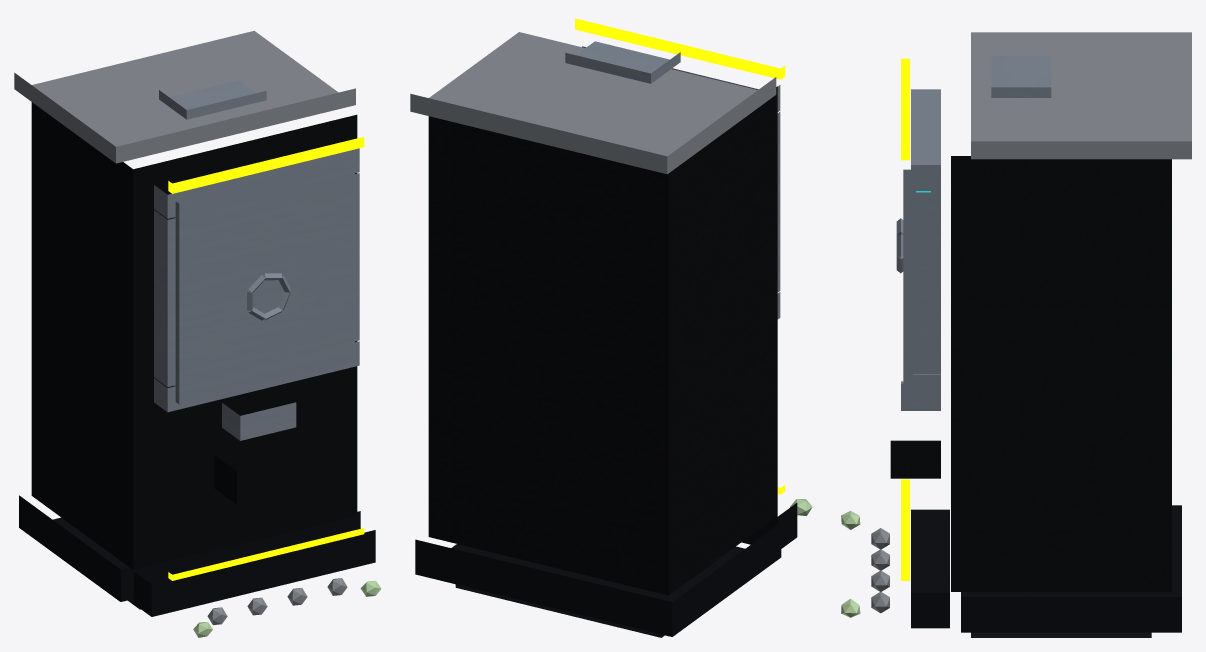
File: tt_foyer_kiosk.glb
3 renders of one model, left to right at view 1: azimuth 30°, elevation 25°; view 2: azimuth 150°, elevation 25°; view 3: azimuth 270°, elevation 25°, orthographic. The views are drawn at different scales.
Parts seen in each view (by area): view 1: Kiosk_Body, Kiosk_Bezel, Kiosk_Top, Kiosk_Slate_Base, River_LED, Ticket_Mouth, RFID_Pad, Card_Slot, Pebble_Plinth, Cable_Ring; view 2: Kiosk_Body, Kiosk_Top, Kiosk_Slate_Base, RFID_Pad, River_LED, Kiosk_Bezel, Kiosk_Plinth; view 3: Kiosk_Body, Kiosk_Top, Kiosk_Slate_Base, Kiosk_Bezel, RFID_Pad, Ticket_Mouth, River_LED, Pebble_Plinth, Kiosk_Plinth, Seated_Moss, Card_Slot.
Part boxes in pixels (x1,y1,x2,y2): Kiosk_Body: (31, 102, 357, 569); Kiosk_Bezel: (154, 148, 359, 412); Kiosk_Top: (14, 30, 355, 163); Kiosk_Slate_Base: (19, 495, 375, 616); River_LED: (168, 137, 364, 580); Ticket_Mouth: (214, 454, 308, 504); RFID_Pad: (159, 80, 266, 119); Card_Slot: (222, 402, 296, 440); Pebble_Plinth: (207, 578, 347, 625); Cable_Ring: (247, 273, 290, 320); Kiosk_Body: (428, 86, 777, 595); Kiosk_Top: (410, 32, 776, 174); Kiosk_Slate_Base: (415, 503, 797, 636); RFID_Pad: (565, 41, 680, 83); River_LED: (575, 18, 785, 494); Kiosk_Bezel: (582, 46, 780, 319); Kiosk_Plinth: (455, 584, 664, 637); Kiosk_Body: (951, 156, 1171, 591); Kiosk_Top: (971, 32, 1191, 159); Kiosk_Slate_Base: (911, 505, 1181, 632); Kiosk_Bezel: (903, 89, 940, 401); RFID_Pad: (991, 55, 1051, 97); Ticket_Mouth: (890, 440, 940, 478); River_LED: (901, 58, 909, 580); Pebble_Plinth: (871, 528, 889, 613); Kiosk_Plinth: (971, 632, 1151, 637); Seated_Moss: (841, 511, 860, 617); Card_Slot: (901, 381, 940, 410).
Size of what is drawn, in the model's own units: 0.6 by 1.14 by 0.6991.
8 materials, 4 textured.
